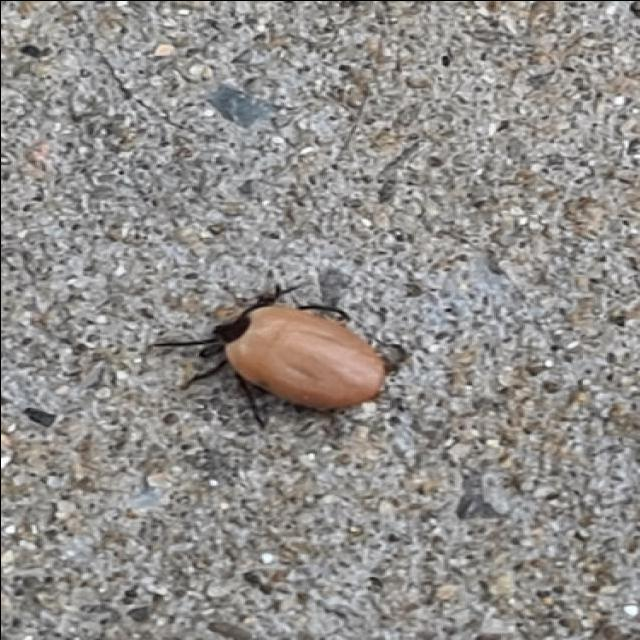Ixodes Ricinus-F-Fed: (152, 284, 386, 428)
